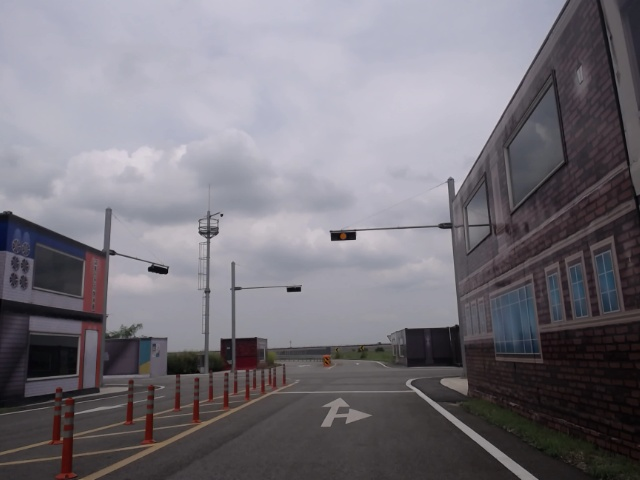orange_3: (331, 232, 356, 242)
